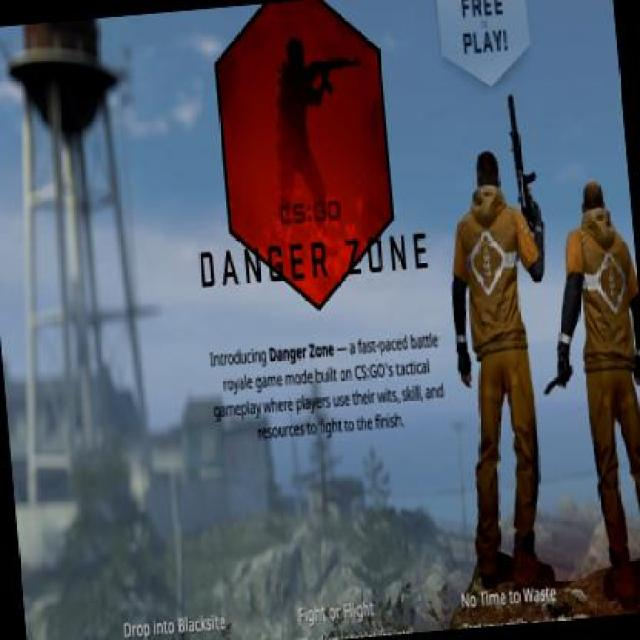MIL_Pax: (438, 144, 576, 601), (542, 178, 638, 594)
